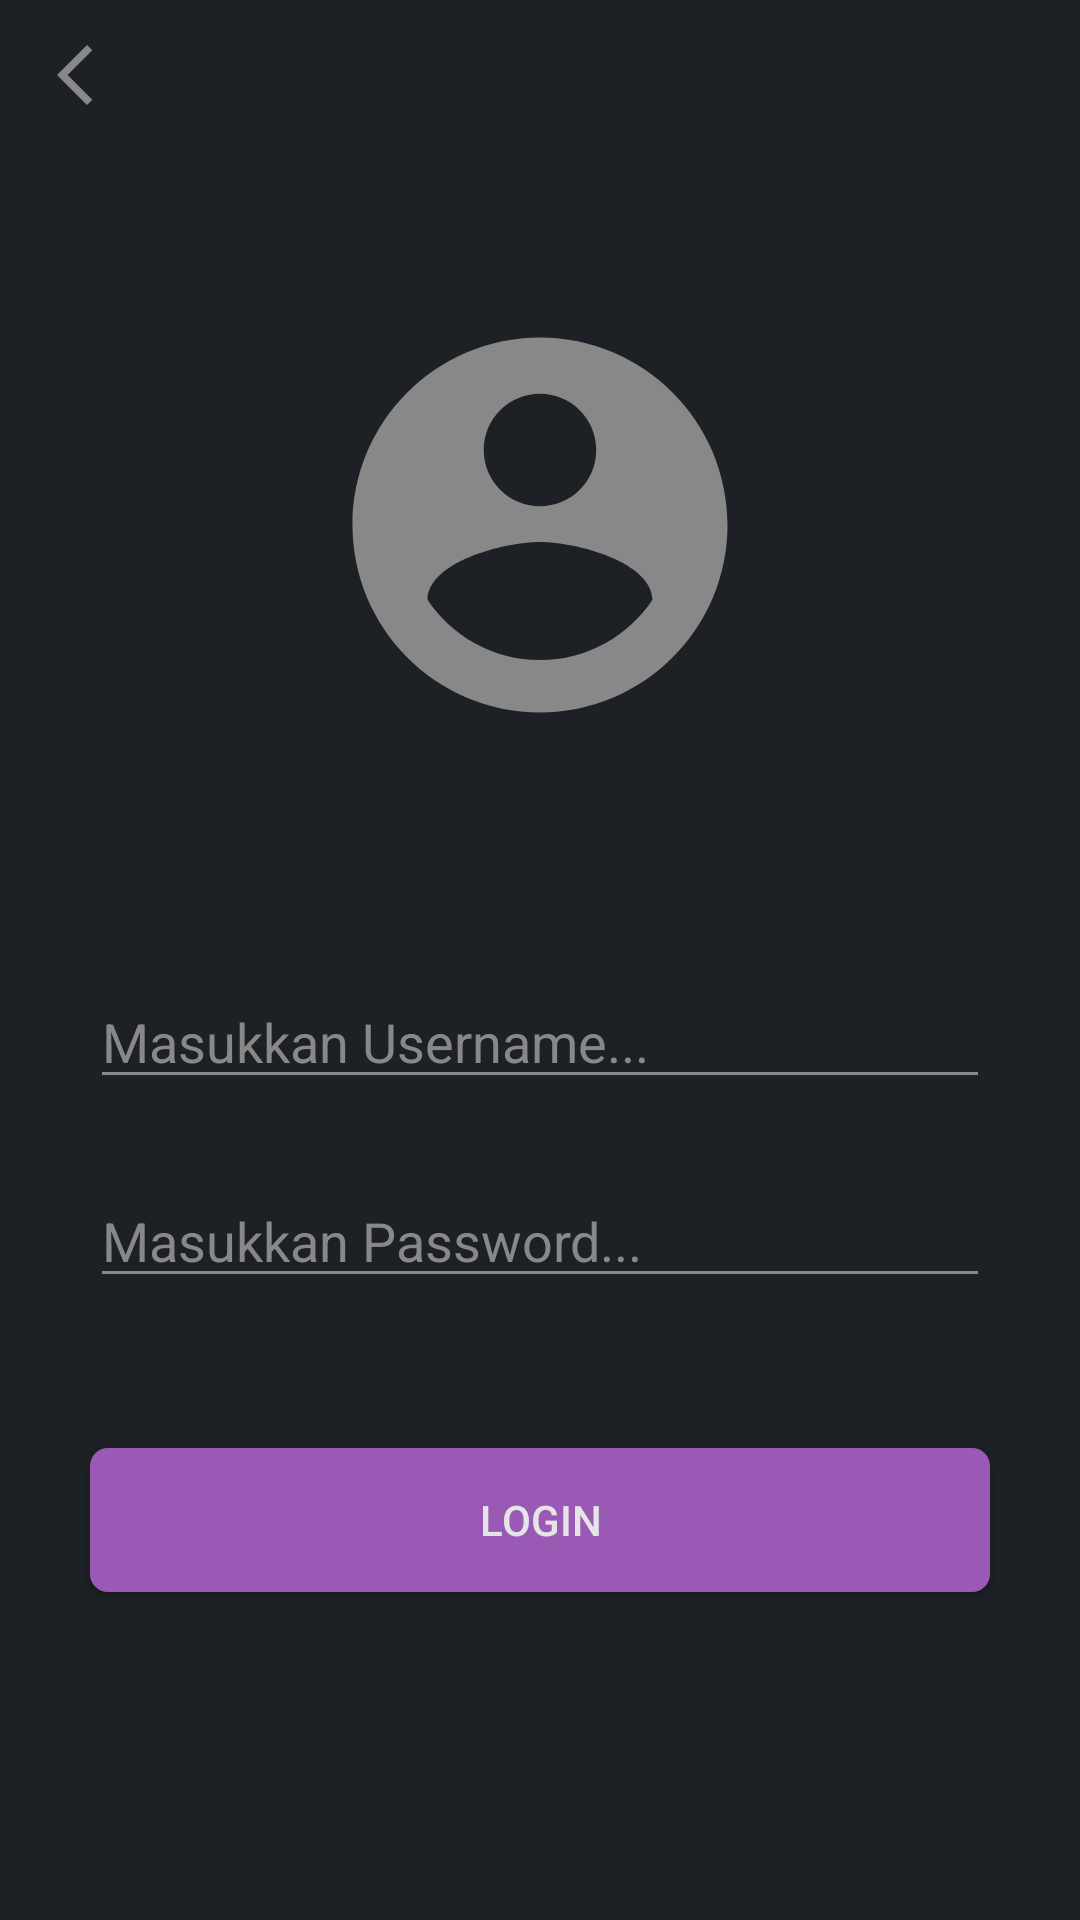

Where to tap for icons on this 1080 × 1920 app screen, as (x=x, y=y):
back: (x=74, y=75)
